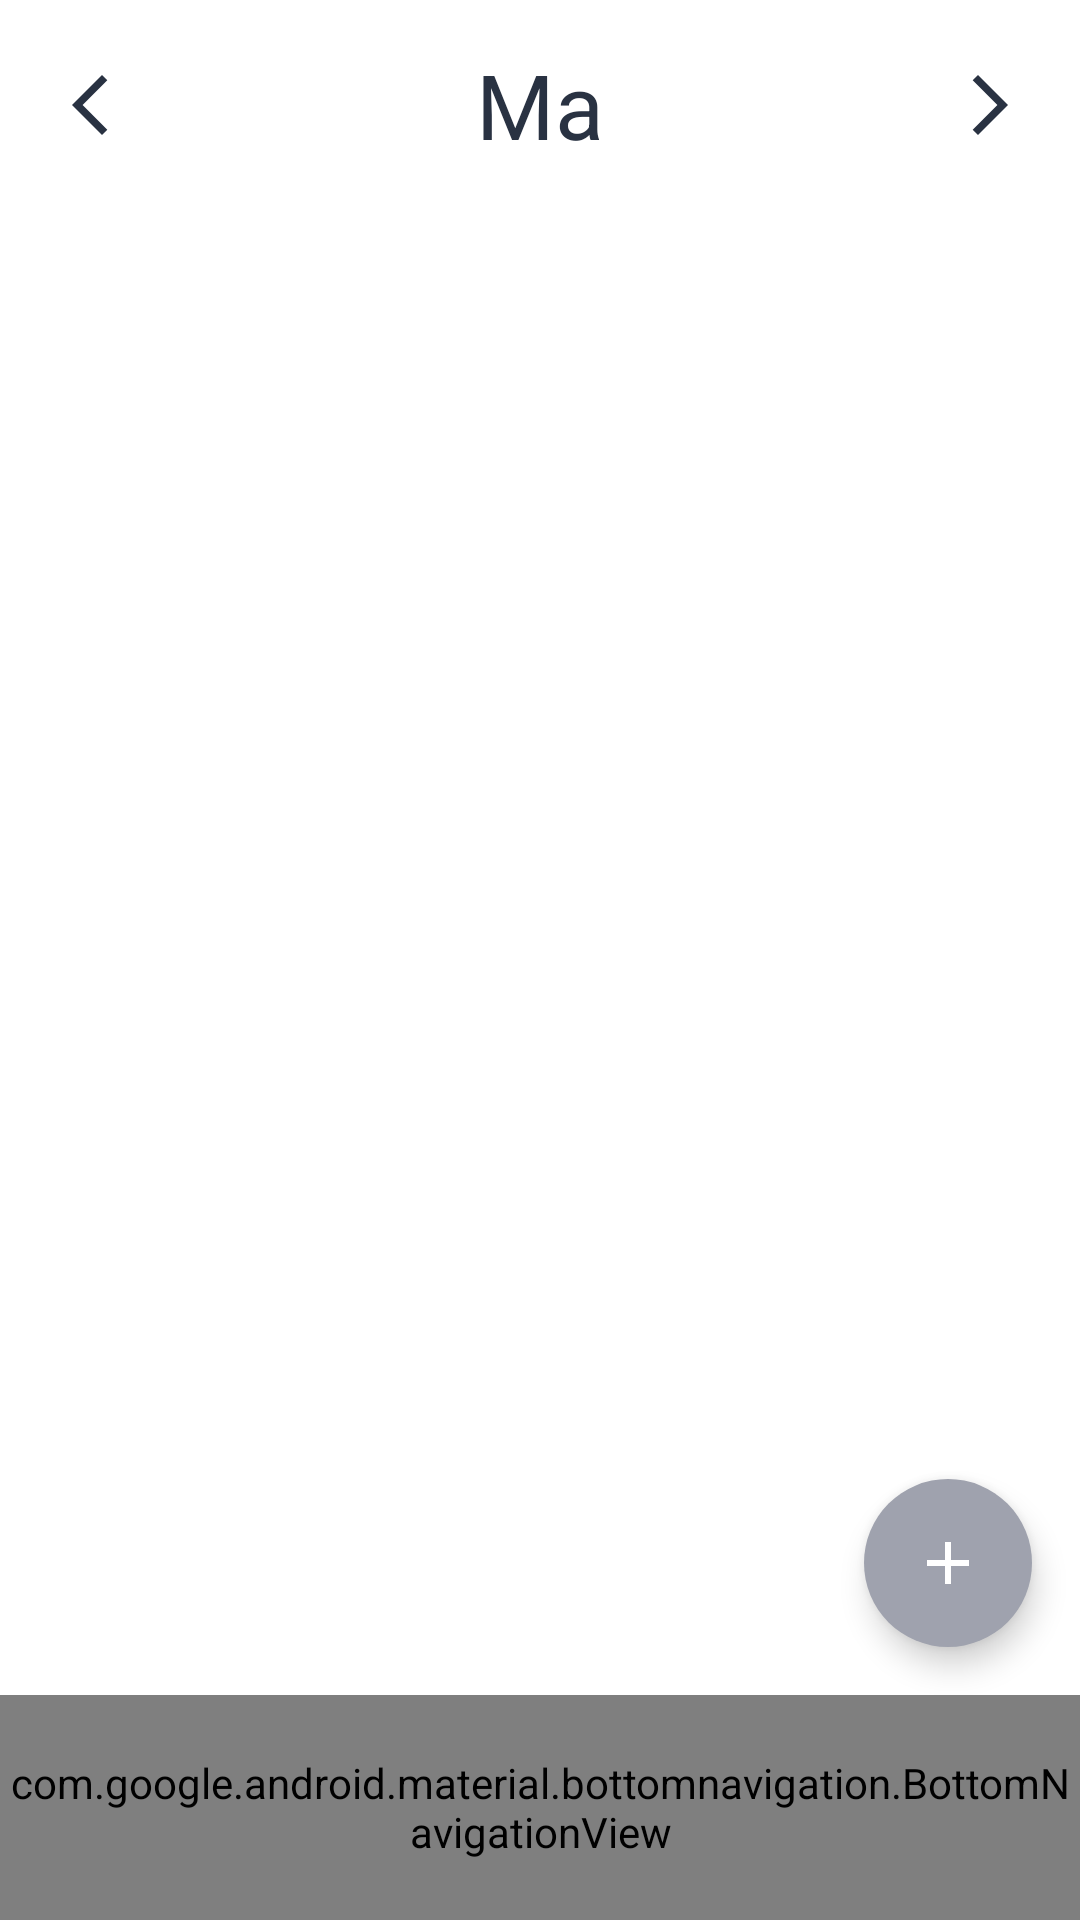

Screen size 1080×1920. Icon name, then its center in pixels as [x,y]:
left arrow: [89,105]
plus: [948,1563]
right arrow: [990,105]
